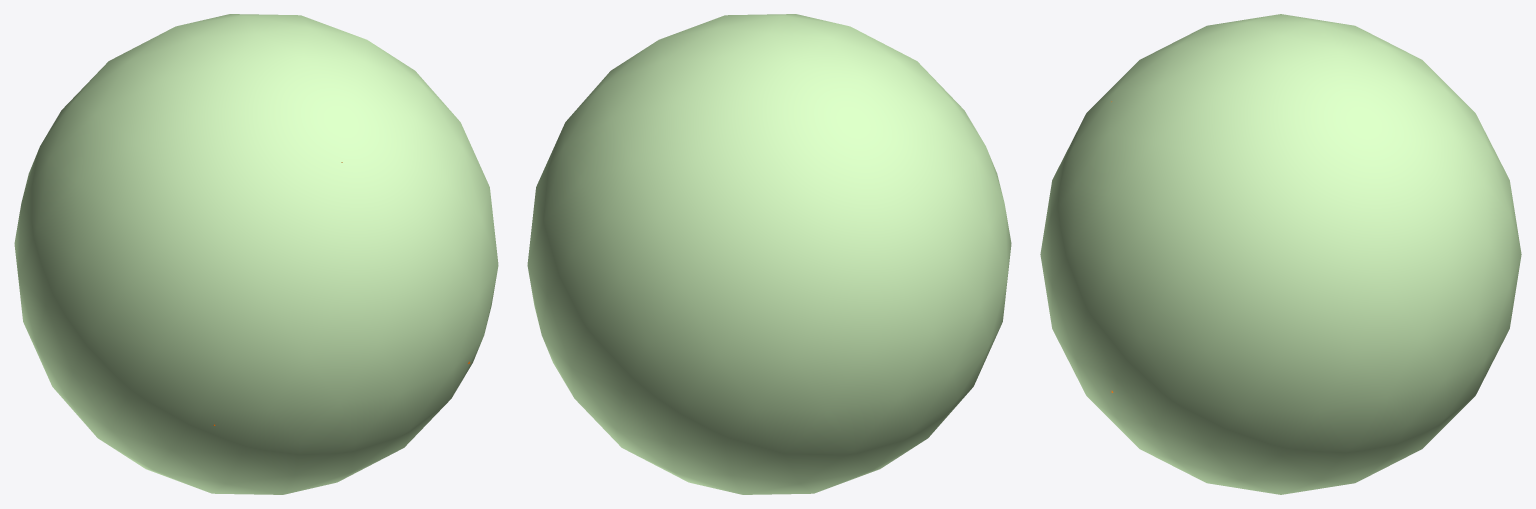
Rendered from player.obj.
3 renders of one model, left to right at view 1: azimuth 30°, elevation 25°; view 2: azimuth 150°, elevation 25°; view 3: azimuth 270°, elevation 25°, orthographic.
Visible parts, largest first — view 1: shield; view 2: shield; view 3: shield.
Boxes of the visible parts, <box> form: shield: <box>14,14,498,494</box>; shield: <box>527,14,1011,494</box>; shield: <box>1040,14,1521,494</box>.
Size of the model in its own units: 2.84 by 2.84 by 2.84.
